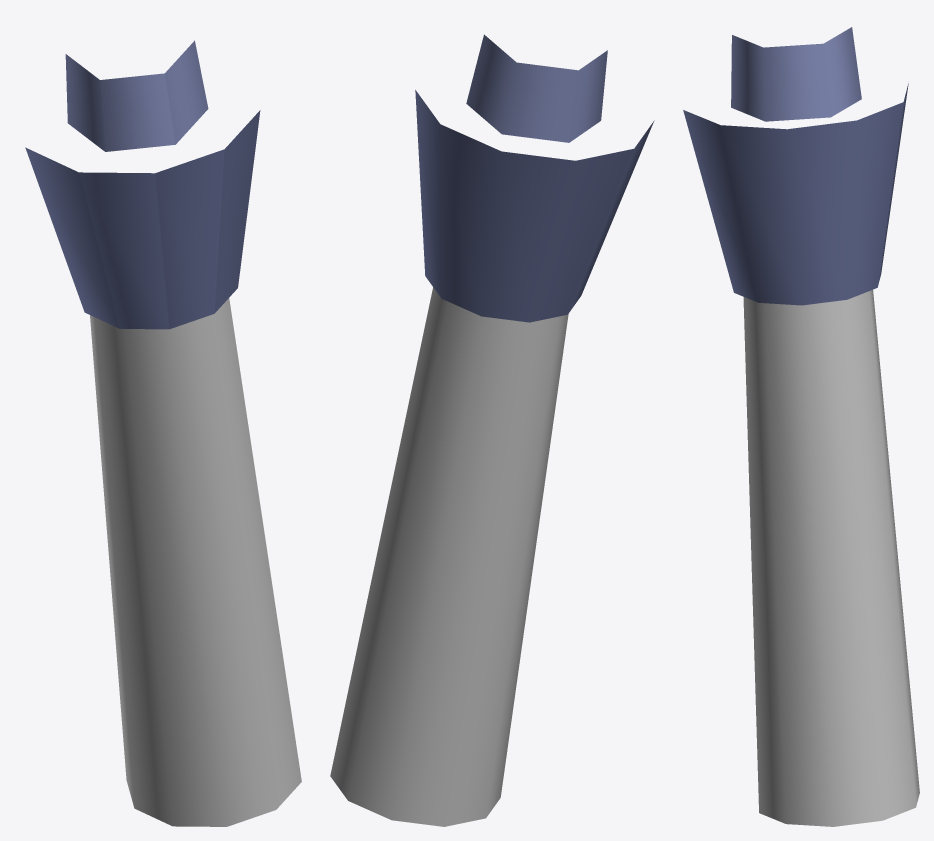
Rendered from MarkerA.glb.
The picture shows the model from 3 angles, left to right: view 1: azimuth 30°, elevation 25°; view 2: azimuth 150°, elevation 25°; view 3: azimuth 270°, elevation 25°; orthographic projection. The views are drawn at different scales.
Parts seen in each view (by area): view 1: MarkerA; view 2: MarkerA; view 3: MarkerA.
Boxes of the visible parts, left/top/right/bottom form: MarkerA: left=25, top=40, right=301, bottom=826; MarkerA: left=330, top=34, right=654, bottom=826; MarkerA: left=683, top=27, right=919, bottom=826.
Bounding box in the file's own units: 0.0885 × 0.2384 × 0.0689.
